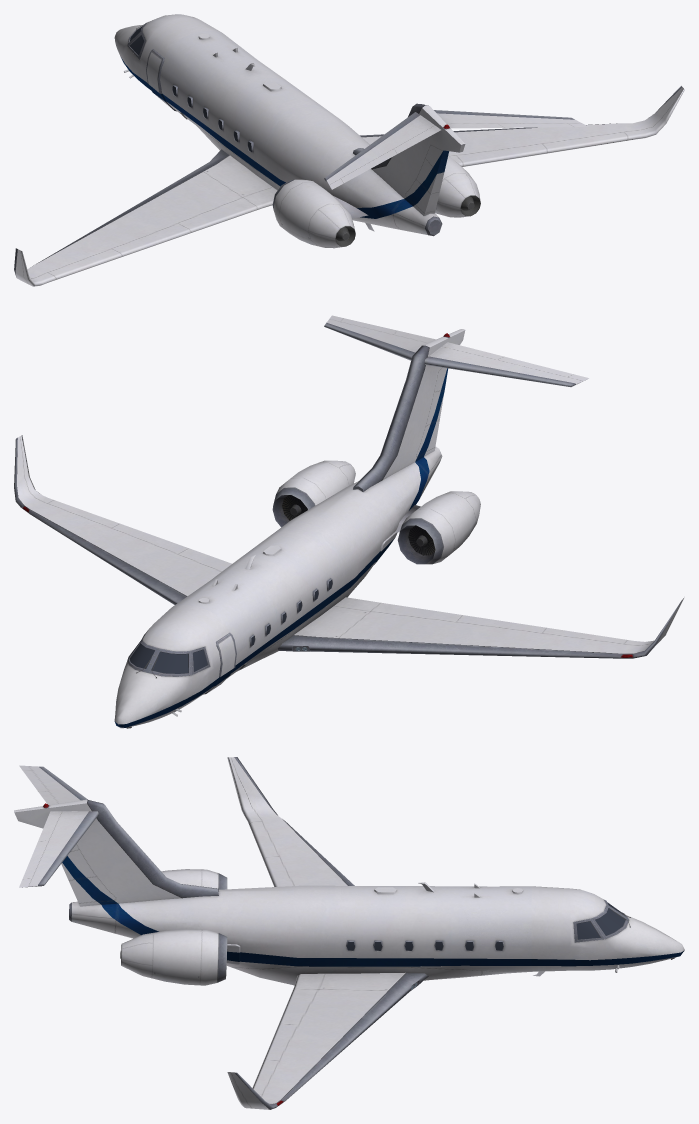
The model's file is Airplane_Private.glb.
3 renders of one model, top to bottom at view 1: azimuth 30°, elevation 25°; view 2: azimuth 150°, elevation 25°; view 3: azimuth 270°, elevation 25°, orthographic. The views are drawn at different scales.
Parts seen in each view (by area): view 1: Airplane_Private__LOD3; view 2: Airplane_Private__LOD3; view 3: Airplane_Private__LOD3.
Part boxes in pixels (x1=…): Airplane_Private__LOD3: x1=14, y1=14, x2=684, y2=286; Airplane_Private__LOD3: x1=14, y1=315, x2=684, y2=728; Airplane_Private__LOD3: x1=14, y1=757, x2=684, y2=1109.
Bounding box in the file's own units: 9.05 × 2.41 × 8.13.
Materials: 1 (1 with a texture image).
